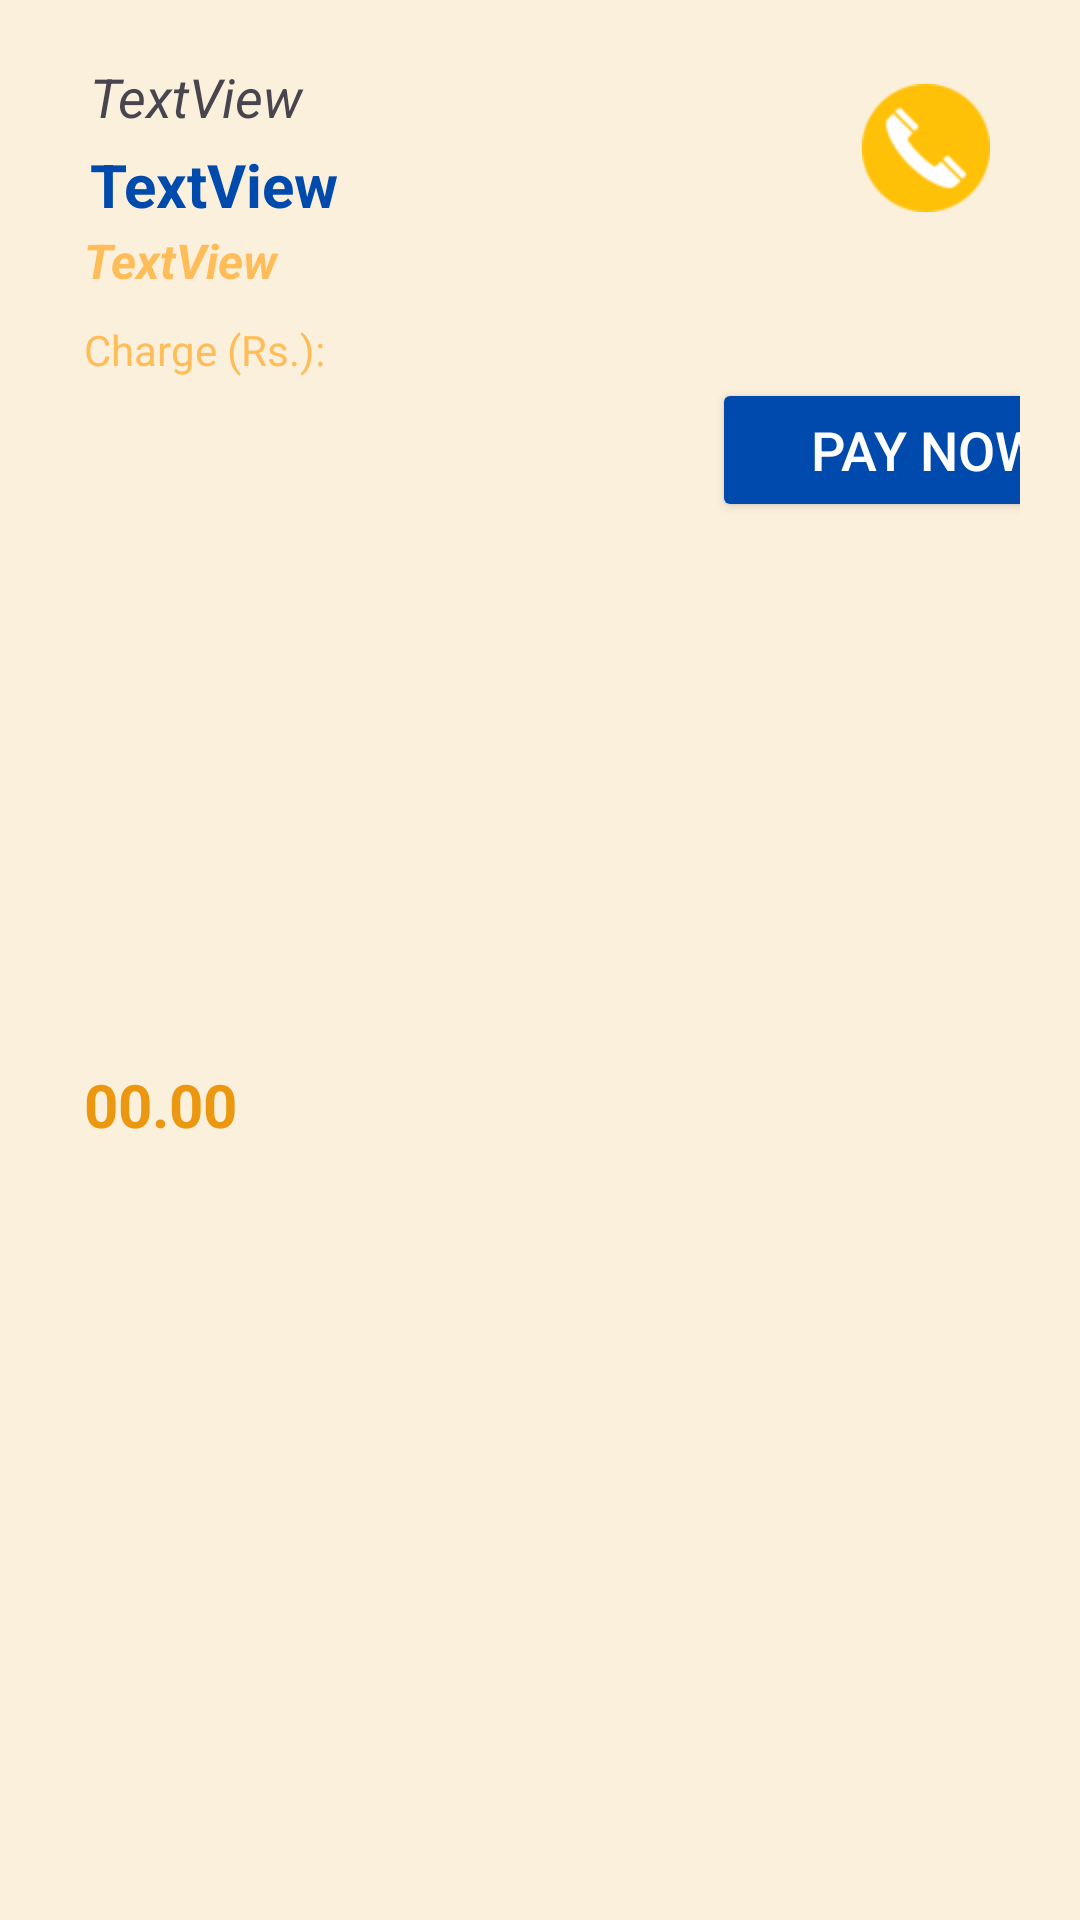

Screen size 1080w x 1920h. Icon name, then its box in pixels as [x1, y1, x2, y2]:
call: [862, 84, 990, 212]
